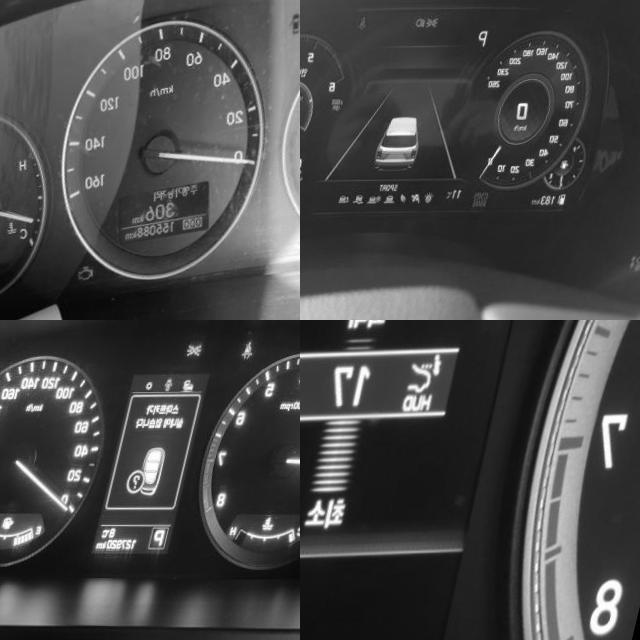Doors: (295, 9, 300, 34)
Low beam: (423, 18, 435, 28)
SideLamp: (197, 342, 216, 358), (433, 16, 448, 28)
